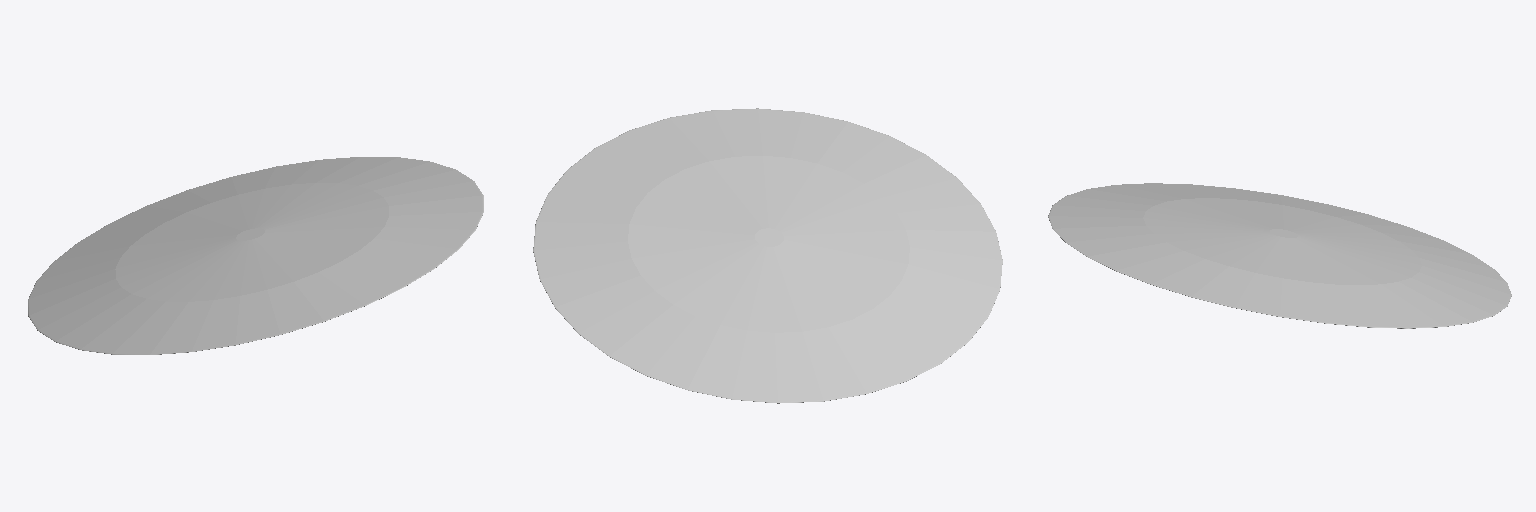
The model's file is ufo2.obj.
The picture shows the model from 3 angles: view 1: azimuth 30°, elevation 25°; view 2: azimuth 150°, elevation 25°; view 3: azimuth 270°, elevation 25°; orthographic projection.
Visible parts, largest first — view 1: Circle.001; view 2: Circle.001; view 3: Circle.001.
Part boxes in pixels (left/top/right/bottom): Circle.001: left=28, top=157, right=483, bottom=354; Circle.001: left=533, top=108, right=1002, bottom=403; Circle.001: left=1048, top=183, right=1511, bottom=328.
Bounding box in the file's own units: 6.88 × 1.71 × 6.88.